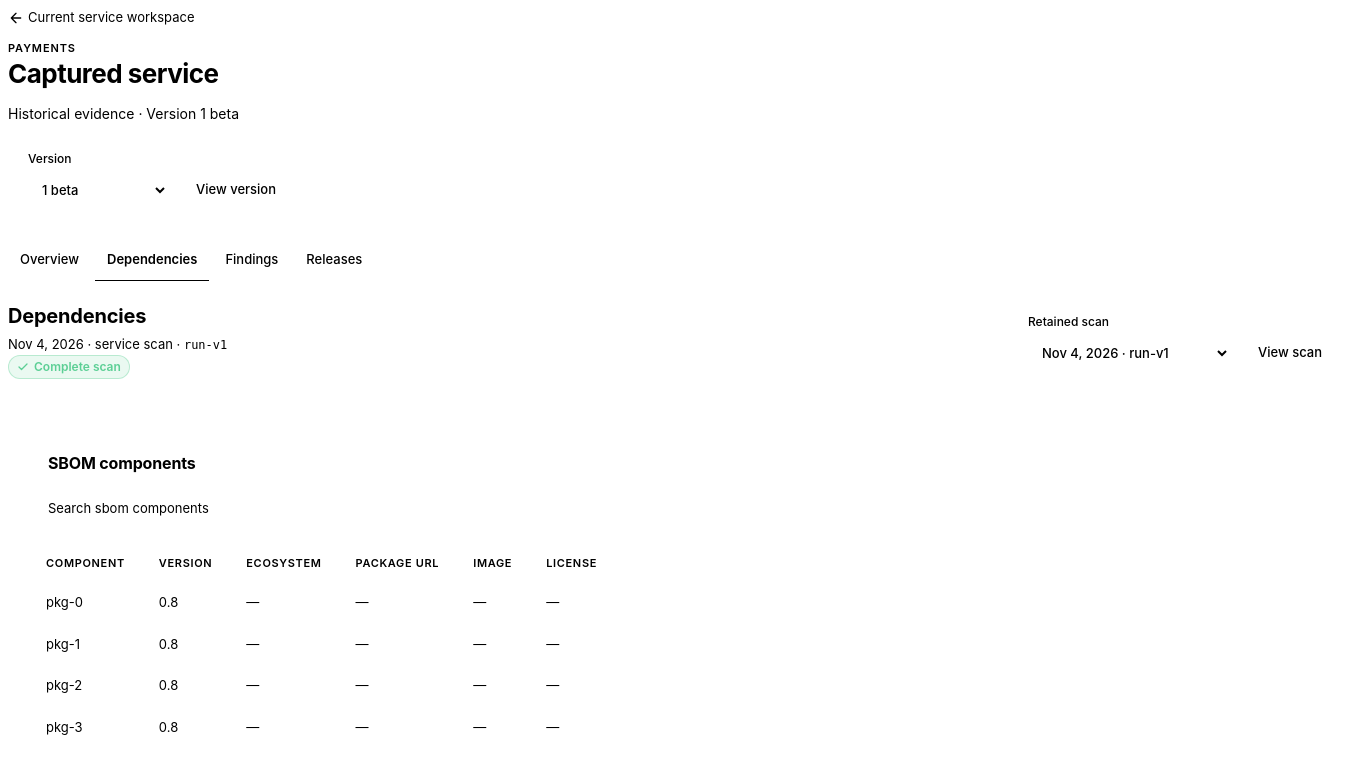
Test: shows and searches retained dependencies without rendering other evidence
Check: the text "pkg-27" is not shown
In the search field labelled "Search sbom components": (320, 509) [209,491,431,527], type "pkg-27"
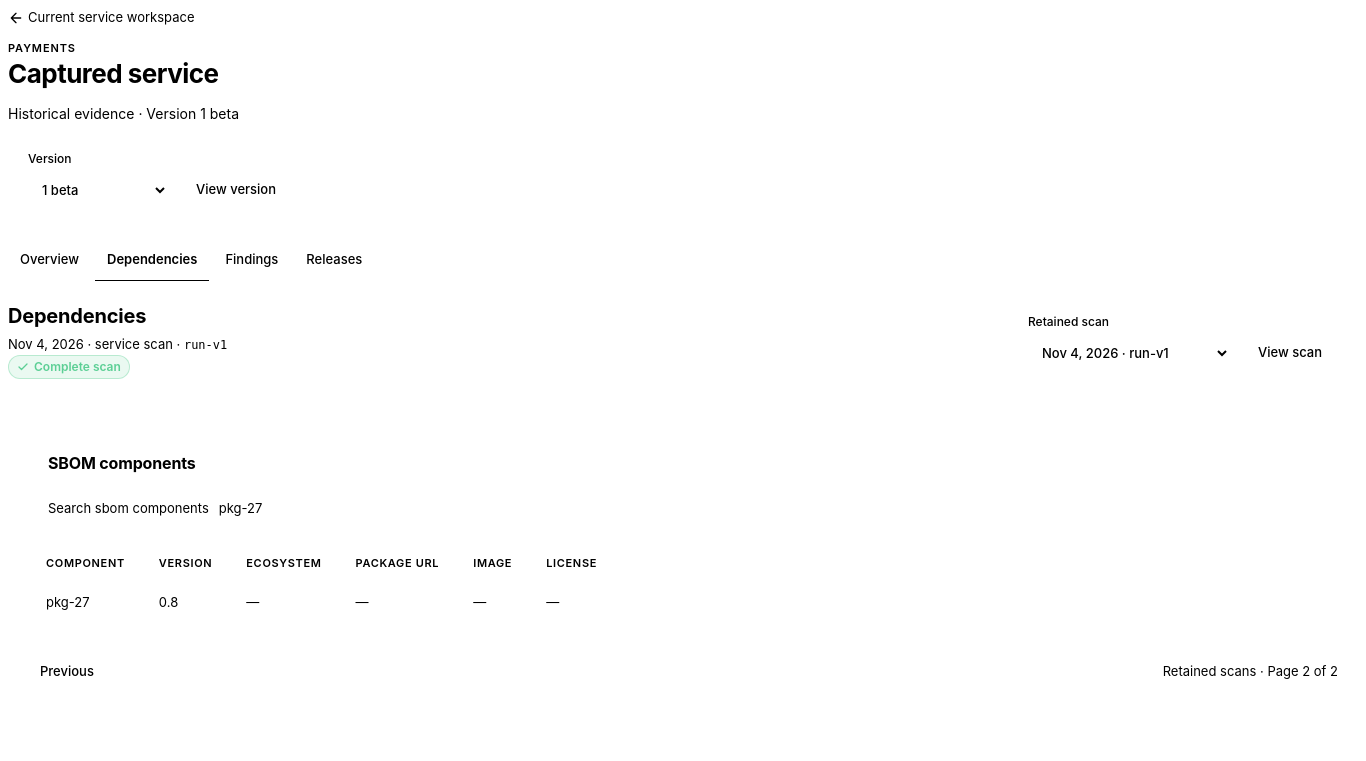
Check: the text "pkg-27" is shown, box [30,583,141,623]
Check: the text "pkg-1" is gone
